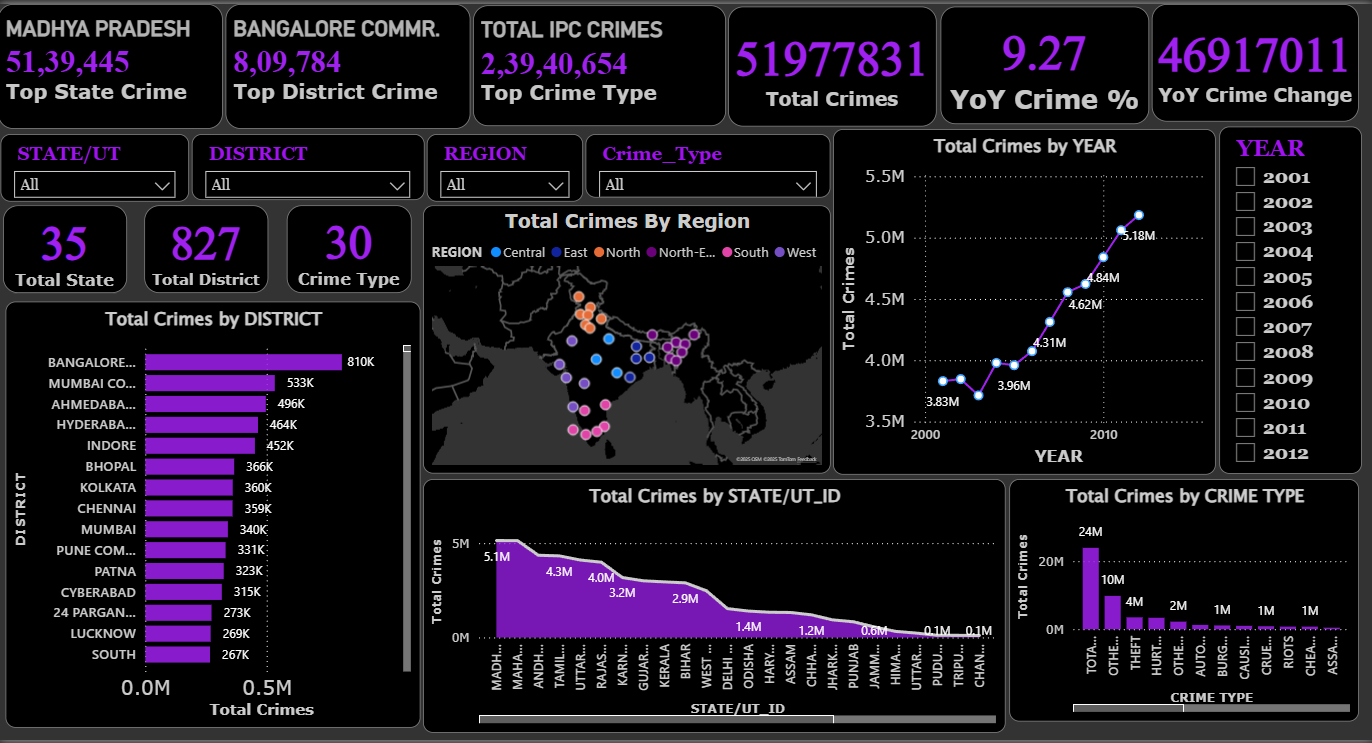

The page's visual inventory and layout, read from the dashboard file:
{"tool":"powerbi","page":{"name":"Page 1","canvas":[1366,730],"ordinal":0},"visuals":[{"type":"actionButton","box":[0,0,100,40],"z":0},{"type":"lineChart","fields":{"Category":["Dim_Year.YEAR"],"Y":["Fact_Crimes.CrimeCount"]},"box":[828.6,124.3,380,342.9],"z":1000},{"type":"columnChart","fields":{"Category":["Fact_Crimes.Crime_Type"],"Y":["Fact_Crimes.Total Crimes"]},"box":[1003.9,471.5,347.5,240.7],"z":2000},{"type":"azureMap","title":"Total Crimes By Region","fields":{"Category":["Dim_District.STATE/UT"],"Series":["Dim_Region.REGION"]},"box":[421.9,199.8,404.5,266.8],"z":3000},{"type":"card","fields":{"Values":["Fact_Crimes.Total Crimes"]},"box":[725,2.5,207.2,119.1],"z":4000},{"type":"card","fields":{"Values":["ALL MEASURES.YoY Crime Change"]},"box":[1145.4,0,206,116.6],"z":5000},{"type":"card","fields":{"Values":["ALL MEASURES.YoY Crime %"]},"box":[935.7,2.5,207.2,116.6],"z":6000},{"type":"multiRowCard","fields":{"Values":["ALL MEASURES.Top State Crime","ALL MEASURES.Top State Name"]},"box":[0,0,223.6,124.2],"z":7000},{"type":"slicer","fields":{"Values":["Dim_State.STATE/UT_ID"]},"box":[2.5,129.1,187.4,67],"z":8000},{"type":"slicer","fields":{"Values":["Dim_Year.YEAR"]},"box":[1212.4,121.6,141.5,345],"z":9000},{"type":"slicer","fields":{"Values":["Fact_Crimes.Crime_Type"]},"box":[583.2,129.1,243.2,63.3],"z":10000},{"type":"clusteredBarChart","fields":{"Y":["Fact_Crimes.Total Crimes"],"Category":["Dim_District.DISTRICT"]},"box":[7.4,295.3,412,423.2],"z":11000},{"type":"slicer","fields":{"Values":["Dim_Region.REGION"]},"box":[425.6,129.1,155.1,67],"z":12000},{"type":"card","fields":{"Values":["ALL MEASURES.District Count"]},"box":[145.2,199.8,122.9,86.9],"z":13000},{"type":"card","fields":{"Values":["ALL MEASURES.Distinct Crime Types"]},"box":[286.7,199.8,124.1,86.9],"z":14000},{"type":"card","fields":{"Values":["ALL MEASURES.State Count"]},"box":[5,199.8,122.9,86.9],"z":15000},{"type":"multiRowCard","fields":{"Values":["ALL MEASURES.Top Crime Type Name","ALL MEASURES.Top Crime Type Count"]},"box":[472,1.3,251,120.3],"z":16000},{"type":"multiRowCard","fields":{"Values":["ALL MEASURES.Top District Name","ALL MEASURES.Top District Crime"]},"box":[226.2,0,243.2,124.2],"z":17000},{"type":"slicer","fields":{"Values":["Dim_District.DISTRICT"]},"box":[192.3,129.1,230.8,65.8],"z":18000},{"type":"areaChart","fields":{"Category":["Dim_State.STATE/UT_ID"],"Y":["Fact_Crimes.Total Crimes"]},"box":[421.9,471.5,578.3,251.9],"z":19000}]}

Visuals, with their boxes in screenshot pixels (x1, y1, x2, y2), scaled from the page's 1366x730 canvas onto the 1372x743 screenshot:
actionButton: 0 0 100 41
lineChart - Dim_Year.YEAR x Fact_Crimes.CrimeCount: 832 127 1214 476
columnChart - Fact_Crimes.Crime_Type x Fact_Crimes.Total Crimes: 1008 480 1357 725
"Total Crimes By Region" azureMap: 424 203 830 475
card - Fact_Crimes.Total Crimes: 728 3 936 124
card - ALL MEASURES.YoY Crime Change: 1150 0 1357 119
card - ALL MEASURES.YoY Crime %: 940 3 1148 121
multiRowCard - ALL MEASURES.Top State Crime x ALL MEASURES.Top State Name: 0 0 225 126
slicer - Dim_State.STATE/UT_ID: 3 131 191 200
slicer - Dim_Year.YEAR: 1218 124 1360 475
slicer - Fact_Crimes.Crime_Type: 586 131 830 196
clusteredBarChart - Fact_Crimes.Total Crimes x Dim_District.DISTRICT: 7 301 421 731
slicer - Dim_Region.REGION: 427 131 583 200
card - ALL MEASURES.District Count: 146 203 269 292
card - ALL MEASURES.Distinct Crime Types: 288 203 413 292
card - ALL MEASURES.State Count: 5 203 128 292
multiRowCard - ALL MEASURES.Top Crime Type Name x ALL MEASURES.Top Crime Type Count: 474 1 726 124
multiRowCard - ALL MEASURES.Top District Name x ALL MEASURES.Top District Crime: 227 0 471 126
slicer - Dim_District.DISTRICT: 193 131 425 198
areaChart - Dim_State.STATE/UT_ID x Fact_Crimes.Total Crimes: 424 480 1005 736
